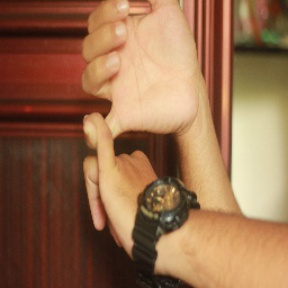S: (72, 1, 198, 244)
